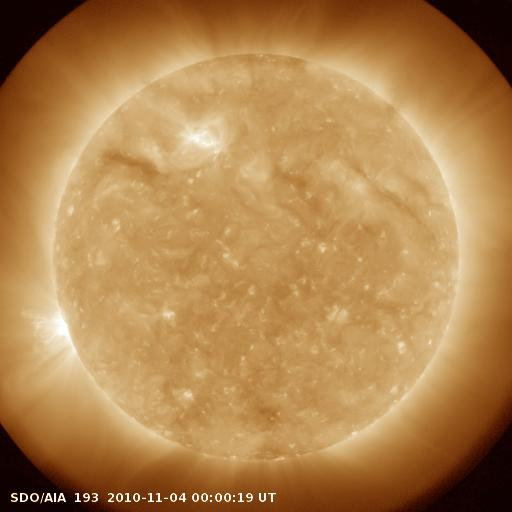coronal_hole: (99, 142, 162, 182)
